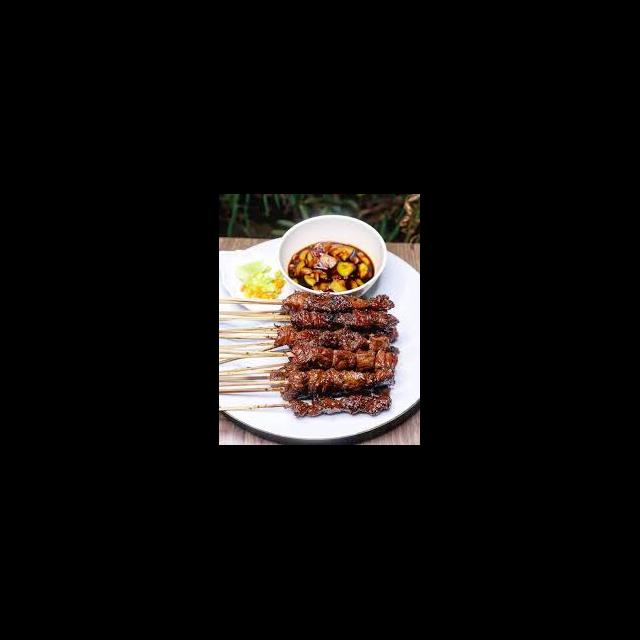food_waste: (286, 302, 397, 417)
